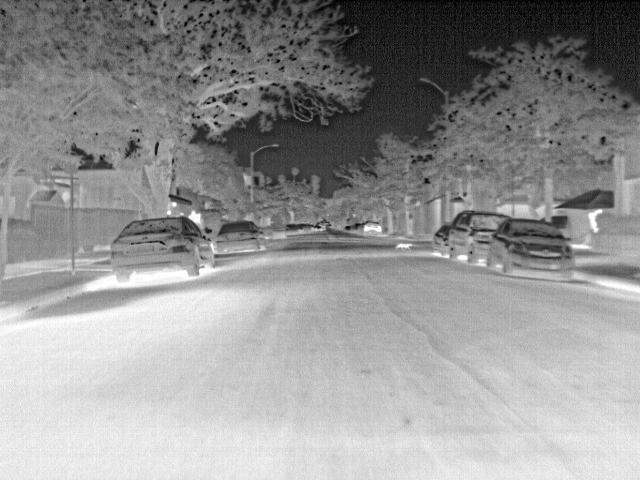car: (108, 215, 216, 279), (487, 218, 579, 282), (447, 209, 514, 264), (211, 219, 267, 255), (432, 221, 455, 255), (359, 218, 385, 234)
person: (585, 206, 605, 236), (188, 208, 205, 234)
